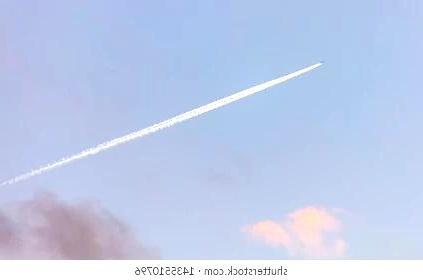Plane: (136, 49, 340, 123)
